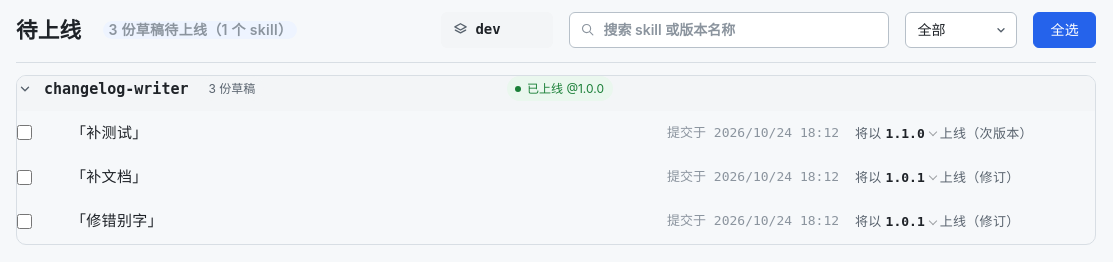
Test: the queue › counts the drafts on the page, not every draft the skill has
Expected: the text with class "chip-text" reads "3 份草稿", [208,81,255,96]
Type "补" into the search field with placeholder "搜索 skill 或版本名称".
click(729, 30); type("补")  # box [569,12,889,48]
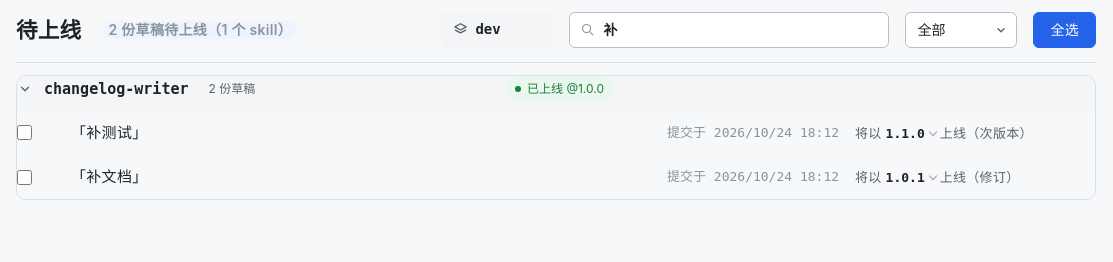
Result: the number of list items with class "is-child" is 2 at [17,123,1033,144]; [17,167,1020,188]
Result: the text with class "chip-text" reads "2 份草稿" at [208,81,255,96]
